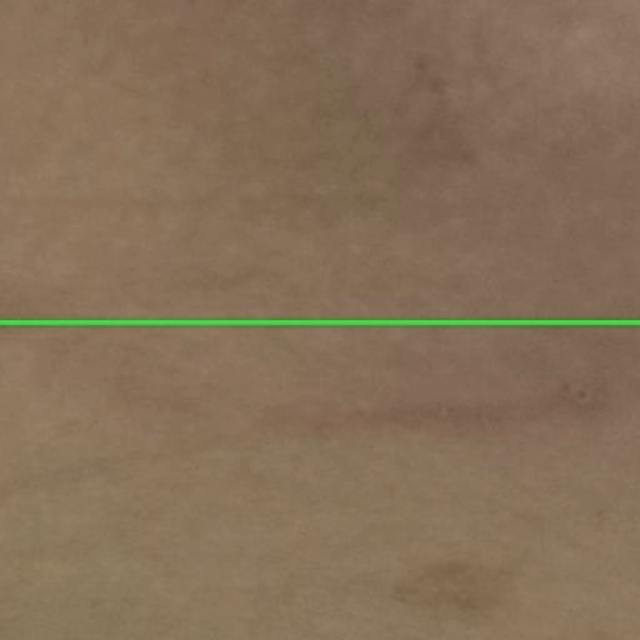Tinea Corporis: (0, 322, 639, 639)
